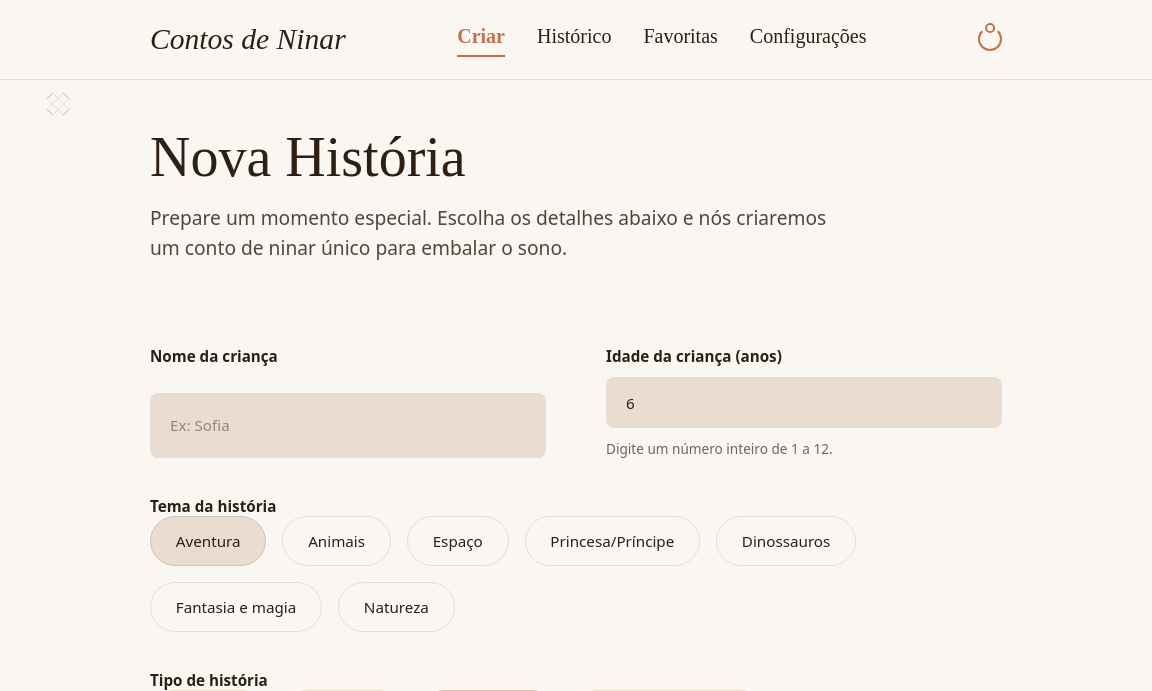
User settings › renders Portuguese-first grouped settings controls
Click the tab "Configurações" at (808,39), box 750,21 -> 866,57
(page scrolled)
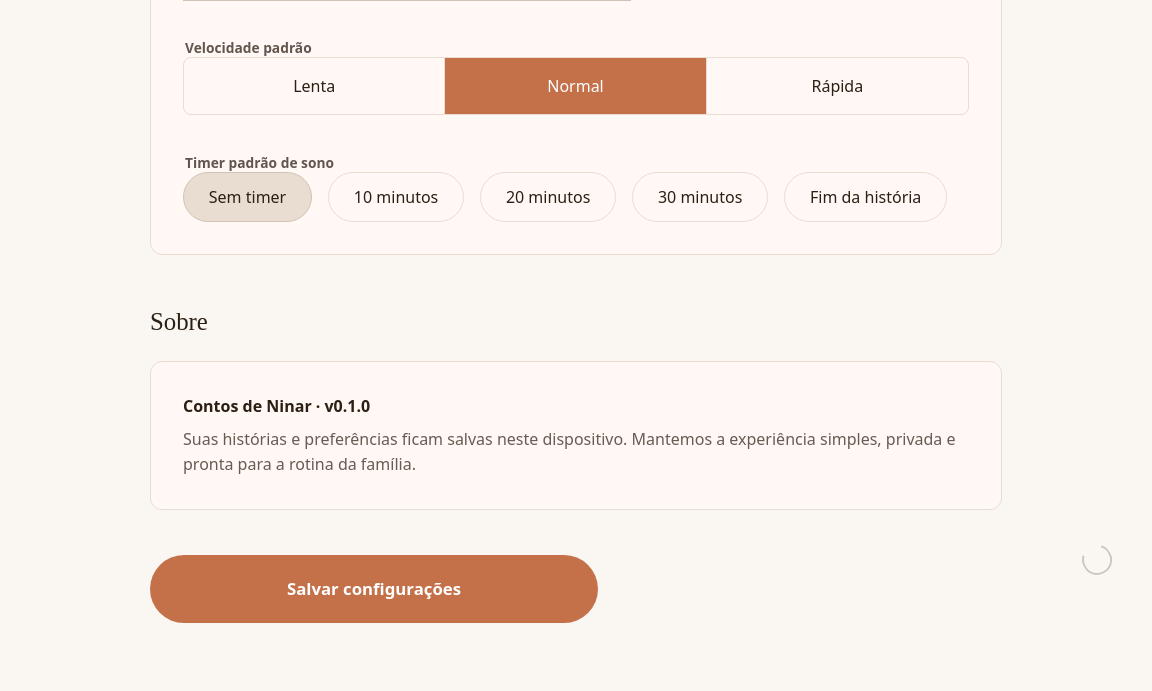
Result: the element "Timer padrão de sono" is shown at 183,154 -> 969,222
Result: the button "Salvar configurações" is shown at 150,555 -> 598,623
